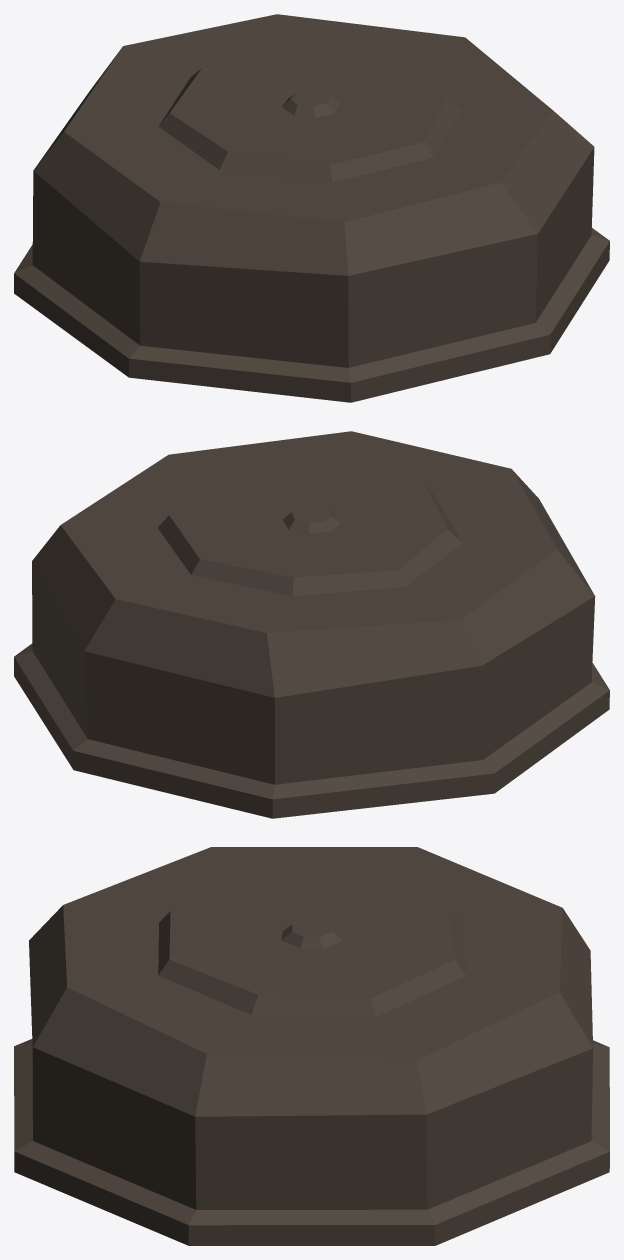
Rendered from SM_Prop_Mine_01.glb.
3 renders of one model, top to bottom at view 1: azimuth 30°, elevation 25°; view 2: azimuth 150°, elevation 25°; view 3: azimuth 270°, elevation 25°, orthographic. The views are drawn at different scales.
Visible parts, largest first — view 1: SM_Prop_Mine_01; view 2: SM_Prop_Mine_01; view 3: SM_Prop_Mine_01.
Boxes of the visible parts, left/top/right/bottom form: SM_Prop_Mine_01: left=14, top=14, right=609, bottom=402; SM_Prop_Mine_01: left=14, top=431, right=609, bottom=818; SM_Prop_Mine_01: left=14, top=847, right=609, bottom=1245.
Bounding box in the file's own units: 0.312 × 0.1129 × 0.312.
Materials: 1 (1 with a texture image).
